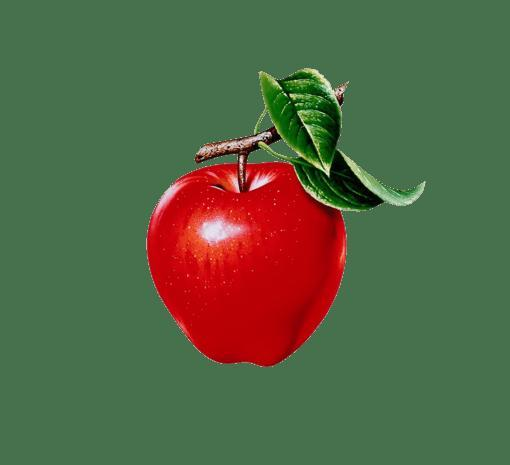apple: (146, 156, 348, 369)
